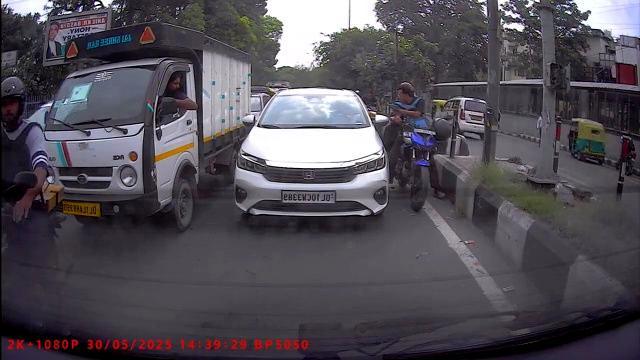motorcycle_without_helmet: (383, 79, 448, 213)
